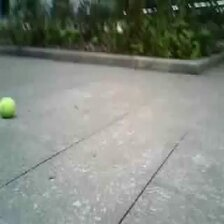tennis: (1, 97, 16, 117)
